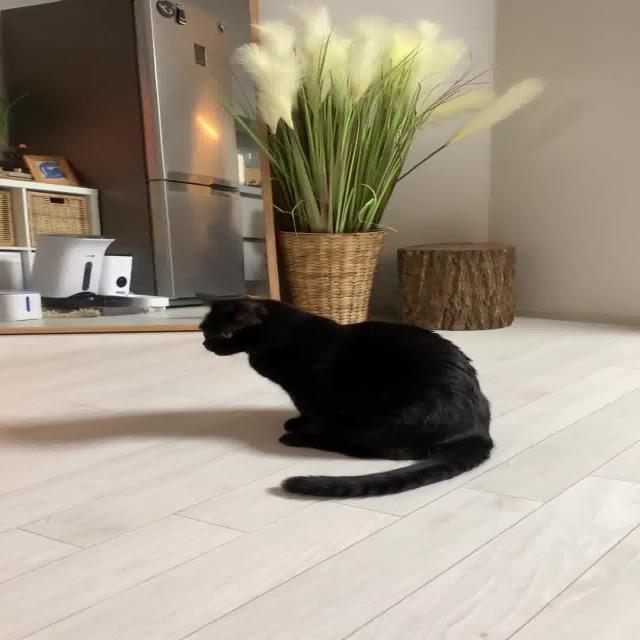cat: (155, 273, 536, 514)
